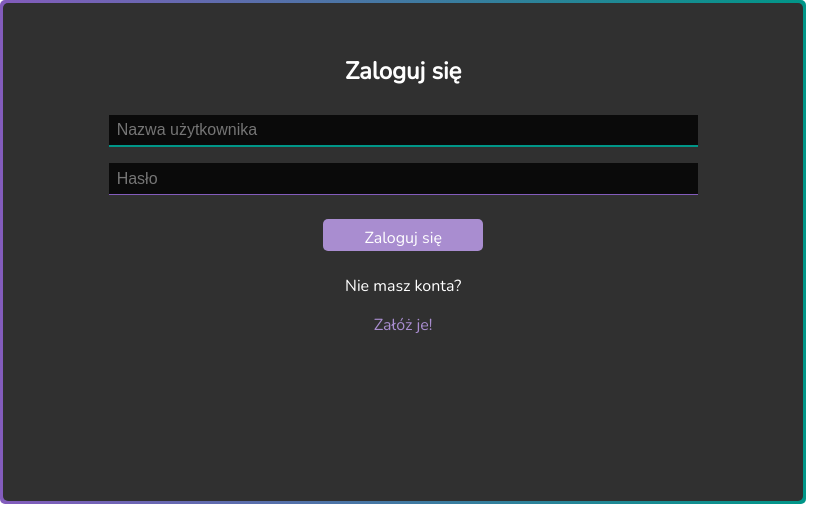
Test: WelcomeBackdrop - AuthForm › should switch form to registration when clicked
The image size is (823, 521).
Click the button "Załóż je!": (403, 325) [368,313,438,337]
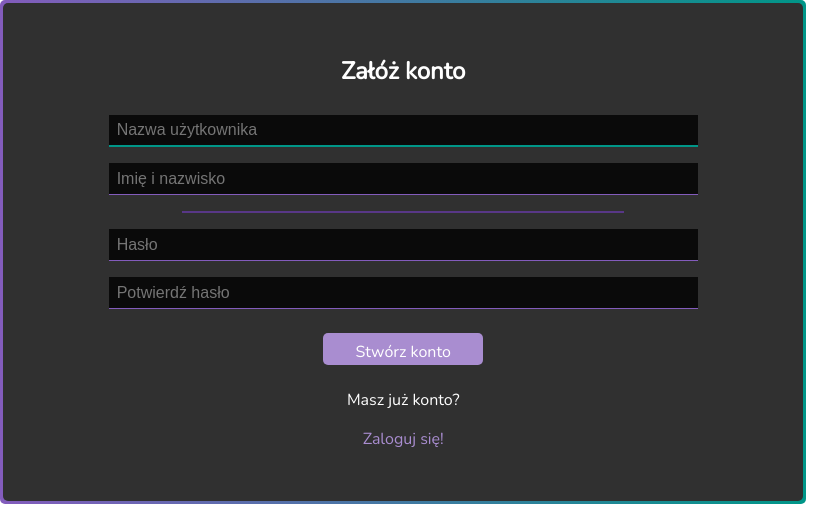
Result: the heading "Załóż konto" is shown at [341,55,465,87]
